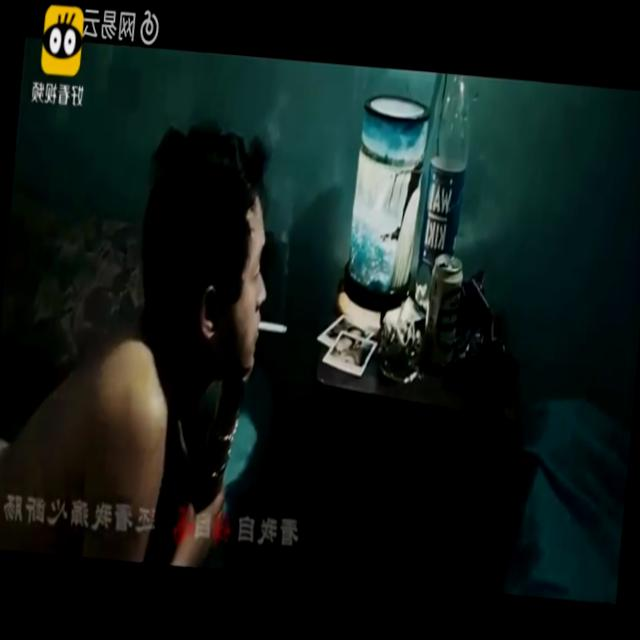smoke: (253, 310, 294, 351)
